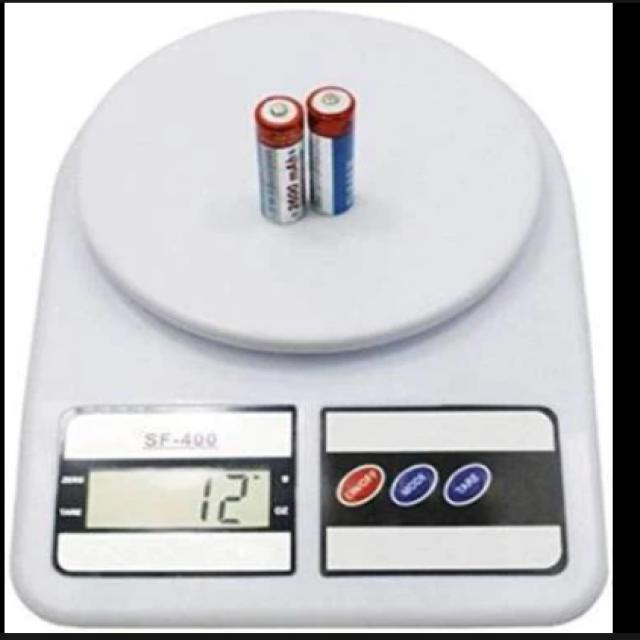1: (196, 472, 216, 526)
2: (218, 471, 253, 529)
screen: (86, 469, 272, 528)
